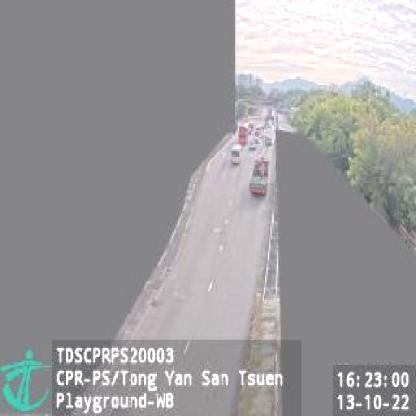Car: (230, 144, 242, 166)
Truck: (248, 154, 270, 199)
